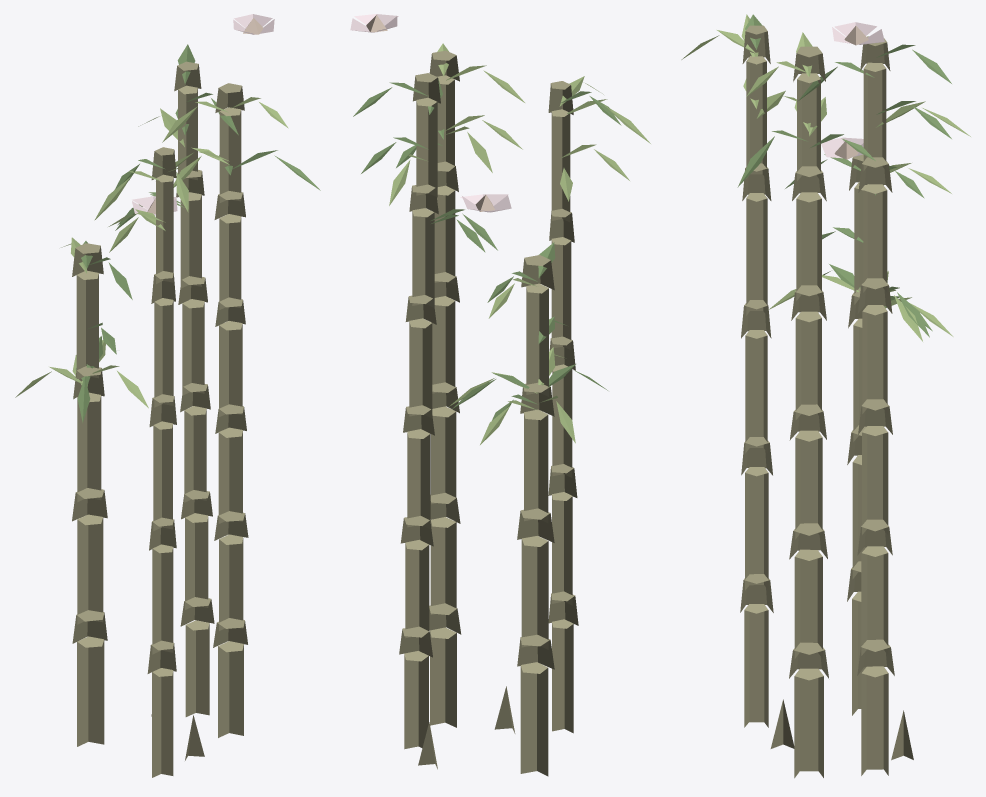
Rendered from hua.zhu__bloom.glb.
The picture shows the model from 3 angles, left to right: view 1: azimuth 30°, elevation 25°; view 2: azimuth 150°, elevation 25°; view 3: azimuth 270°, elevation 25°; orthographic projection. The views are drawn at different scales.
Parts seen in each view (by area): view 1: hua.zhu__bloom; view 2: hua.zhu__bloom; view 3: hua.zhu__bloom.
Part boxes in pixels (box(x1,y1,x2,y2)): hua.zhu__bloom: box(15, 14, 320, 777); hua.zhu__bloom: box(350, 14, 650, 776); hua.zhu__bloom: box(681, 14, 970, 778).
Size of the model in its own units: 2.07 by 5.8 by 1.98.
